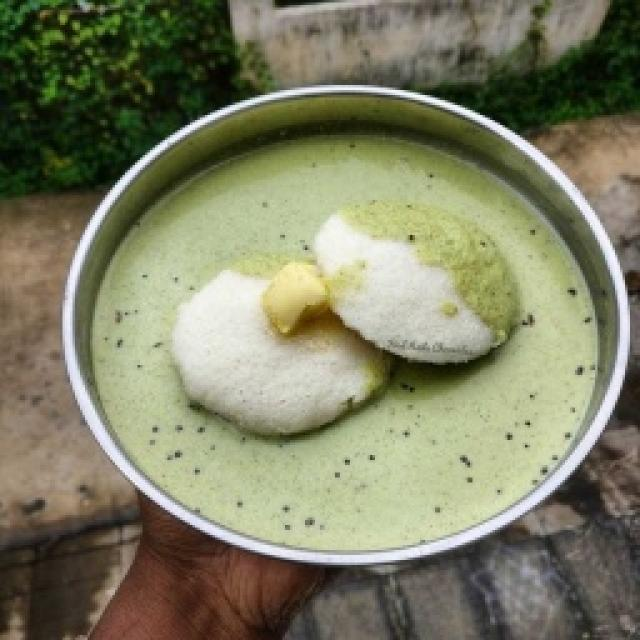idli: (173, 270, 389, 434), (313, 203, 517, 362)
